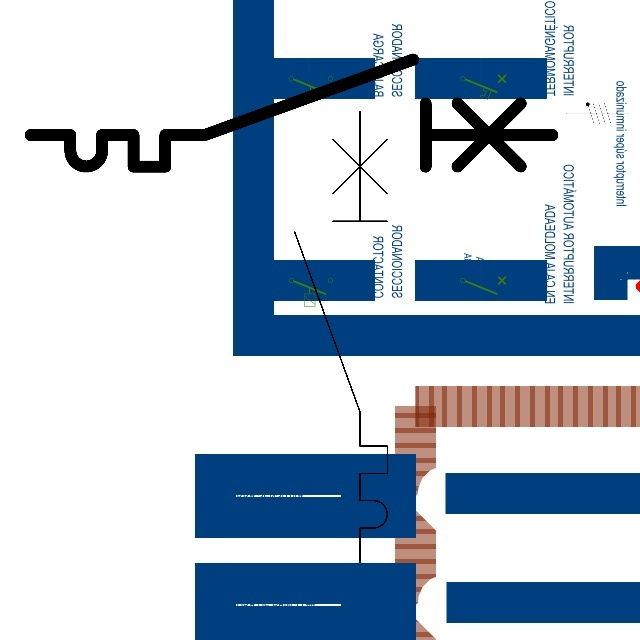interruptor_termomagnetico: (17, 46, 566, 180), (283, 100, 399, 574)
